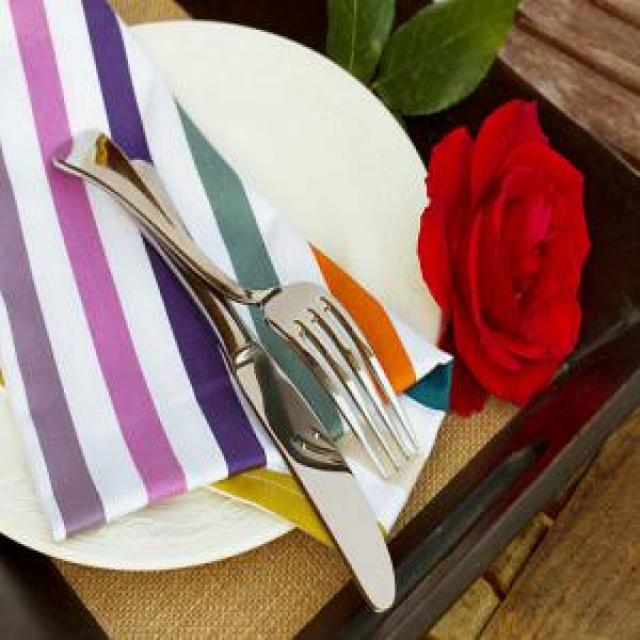knife: (130, 158, 404, 617)
